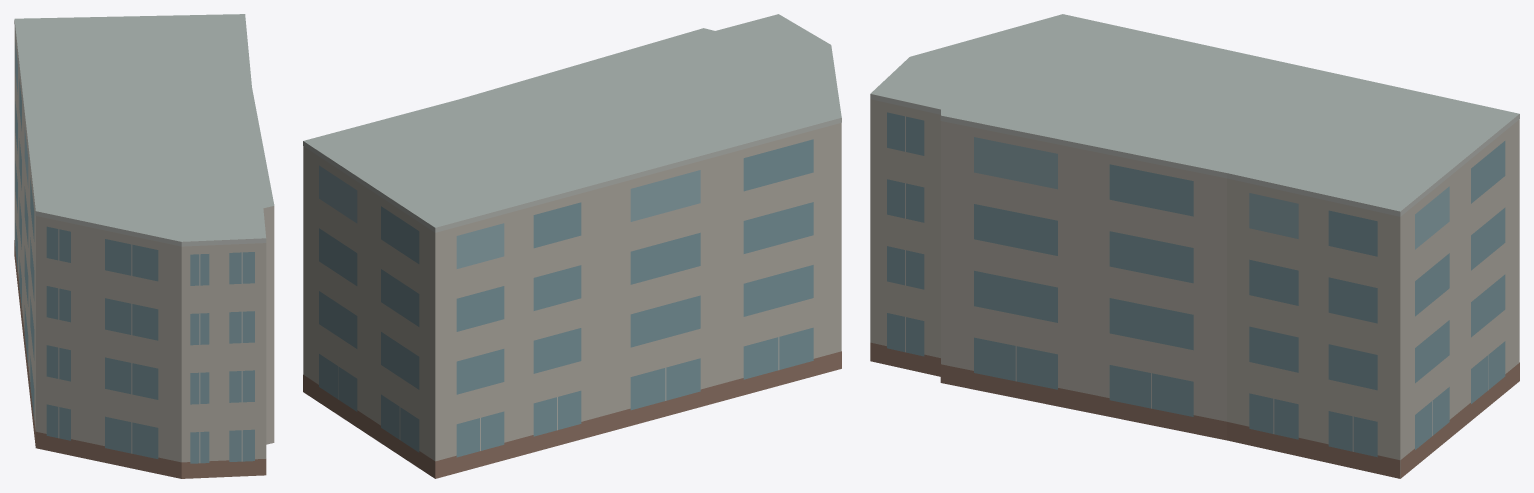
The model's file is survey-upis-32663682.glb.
3 views of the same model, side by side, from view 1: azimuth 30°, elevation 25°; view 2: azimuth 150°, elevation 25°; view 3: azimuth 270°, elevation 25° (orthographic). The views are drawn at different scales.
Parts seen in each view (by area): view 1: survey-upis-32663682.tmp; view 2: survey-upis-32663682.tmp; view 3: survey-upis-32663682.tmp.
Boxes of the visible parts, bbox=[...] form: survey-upis-32663682.tmp: bbox=[14, 14, 274, 478]; survey-upis-32663682.tmp: bbox=[303, 14, 841, 478]; survey-upis-32663682.tmp: bbox=[870, 14, 1519, 478].
Size of the model in its own units: 19.34 by 12.2 by 26.87.
